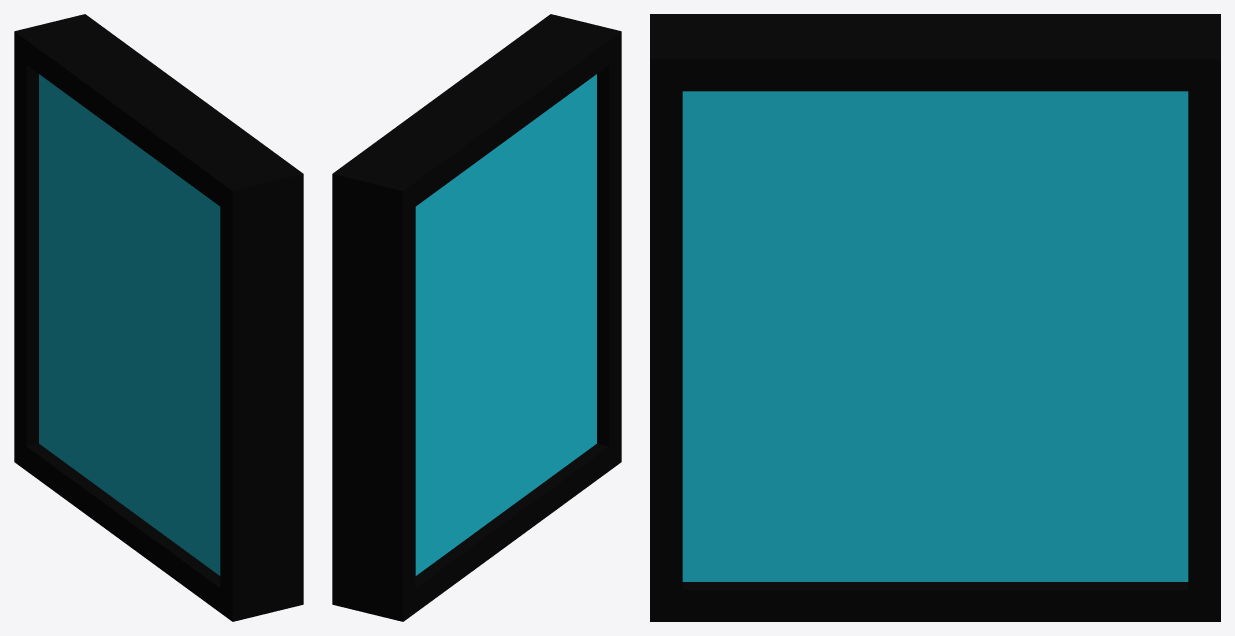
Rendered from display.fbx.
The picture shows the model from 3 angles, left to right: view 1: azimuth 30°, elevation 25°; view 2: azimuth 150°, elevation 25°; view 3: azimuth 270°, elevation 25°; orthographic projection. The views are drawn at different scales.
Visible parts, largest first — view 1: contorno, display; view 2: contorno, display; view 3: display, contorno.
Boxes of the visible parts, <box> form: contorno: <box>14,14,303,621</box>; display: <box>39,74,220,575</box>; contorno: <box>332,14,621,621</box>; display: <box>415,74,596,575</box>; display: <box>682,91,1188,581</box>; contorno: <box>650,14,1220,621</box>.
Size of the model in its own units: 228 by 1325 by 1217.
